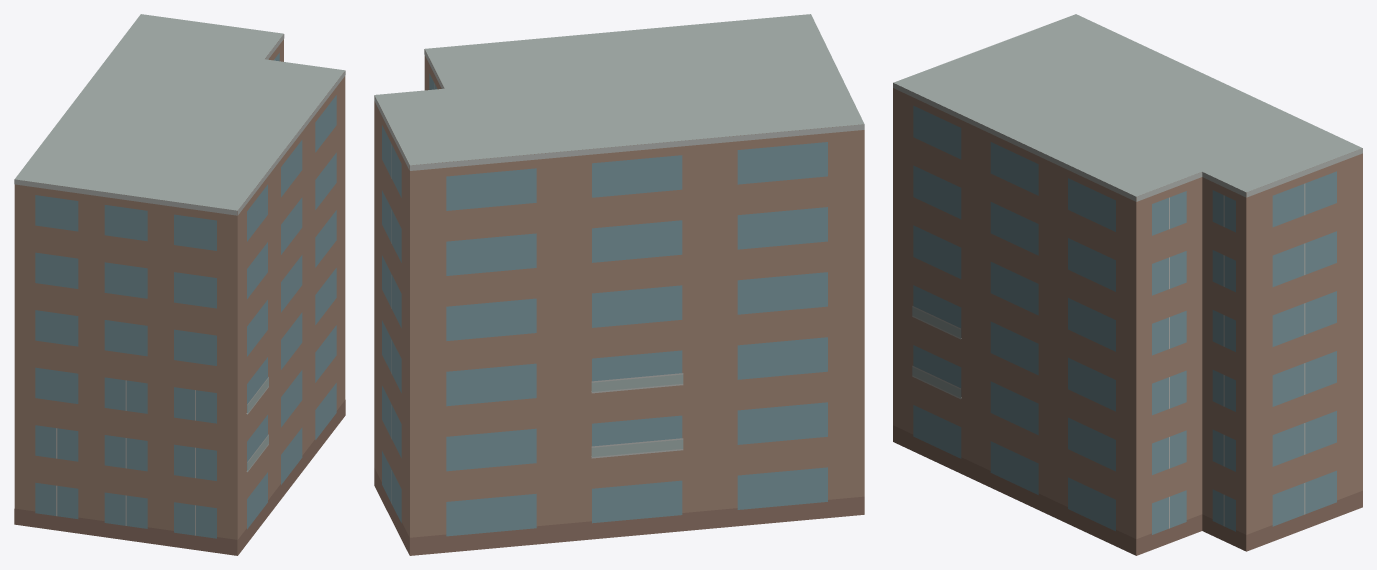
File: survey-upis-32679925.glb
3 views of the same model, side by side, from view 1: azimuth 30°, elevation 25°; view 2: azimuth 150°, elevation 25°; view 3: azimuth 270°, elevation 25° (orthographic). The views are drawn at different scales.
Visible parts, largest first — view 1: survey-upis-32679925.tmp; view 2: survey-upis-32679925.tmp; view 3: survey-upis-32679925.tmp.
Part boxes in pixels (x1,y1,x2,y2): survey-upis-32679925.tmp: [14, 14, 345, 555]; survey-upis-32679925.tmp: [374, 14, 864, 555]; survey-upis-32679925.tmp: [893, 14, 1362, 555].
Bounding box in the file's own units: 18.23 × 16.7 × 19.8.
